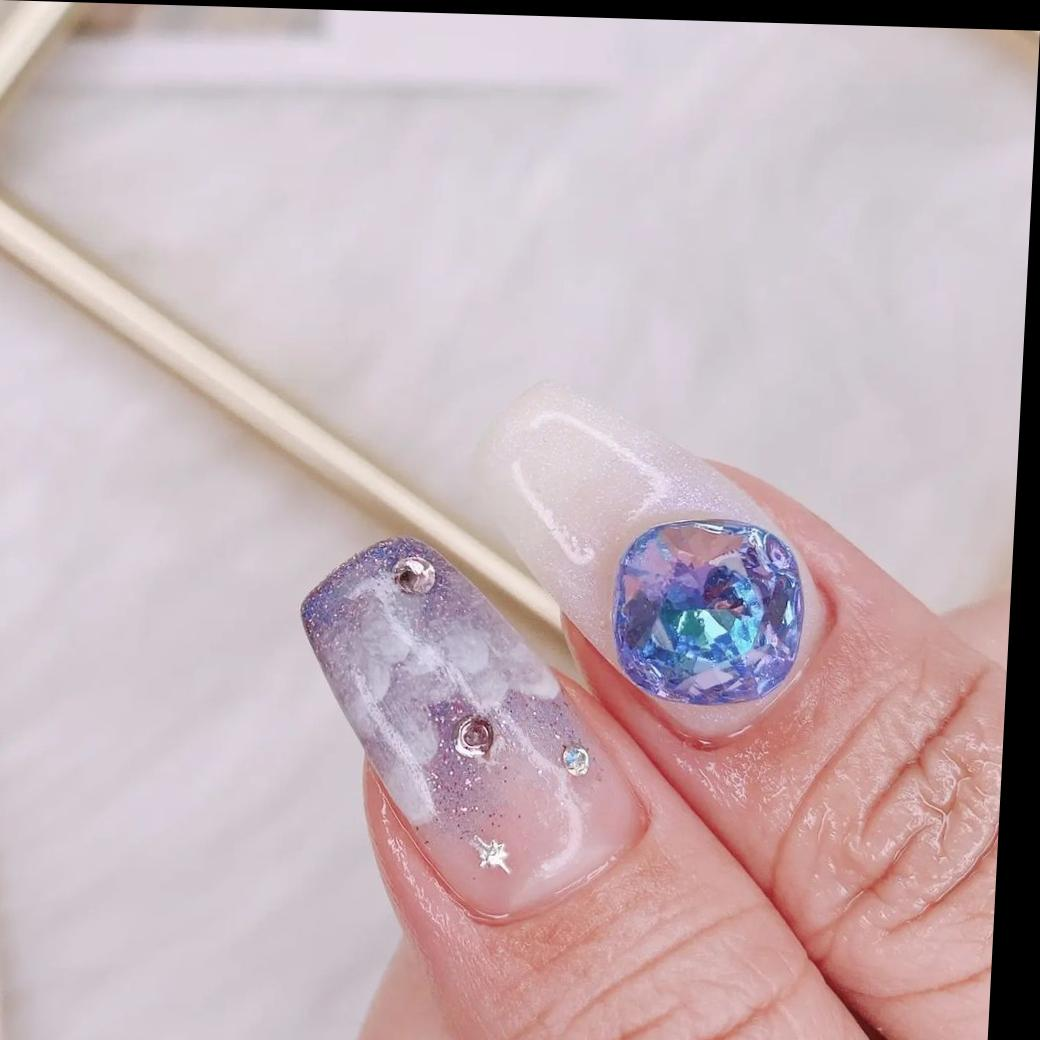nail: (283, 530, 663, 930), (456, 375, 836, 750)
